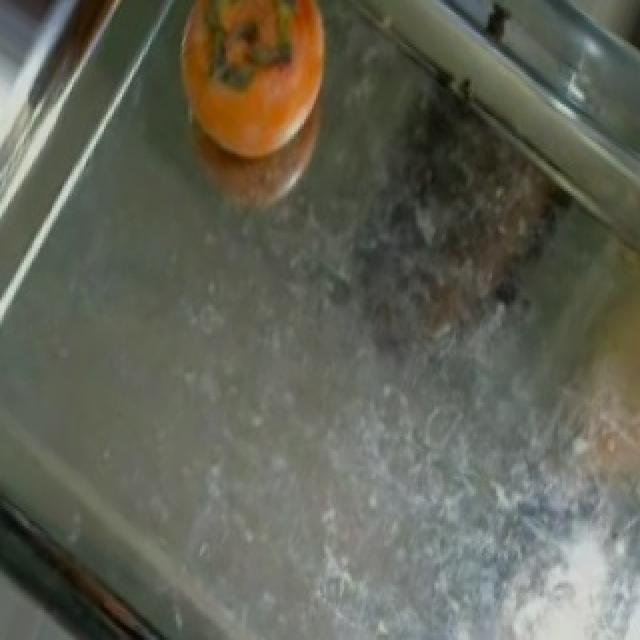Fruit: (148, 0, 350, 208)
